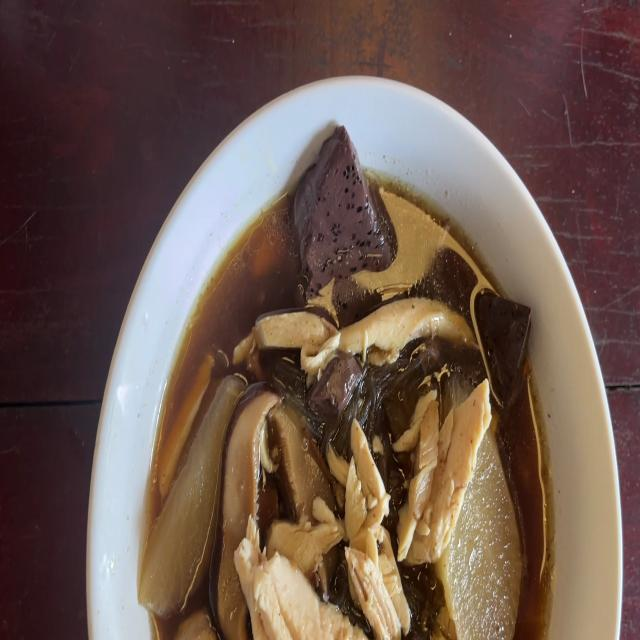noodle: (294, 130, 398, 280), (475, 292, 531, 406), (313, 355, 355, 413)
